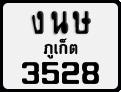letters: (71, 10, 92, 35), (20, 61, 40, 85), (81, 61, 101, 85), (50, 10, 69, 34), (41, 61, 60, 85), (61, 61, 80, 85), (31, 10, 45, 35)
province: (43, 37, 80, 59)
